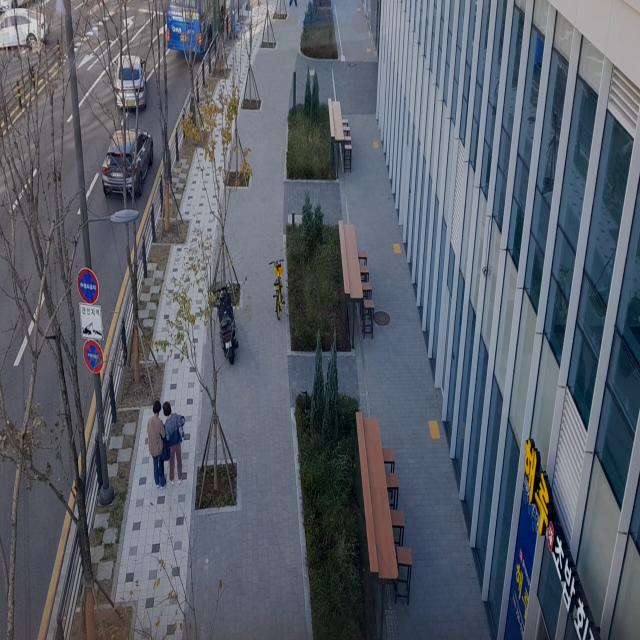Bus: (158, 0, 228, 56)
Car: (92, 119, 162, 207), (104, 38, 152, 119), (0, 0, 62, 54)
